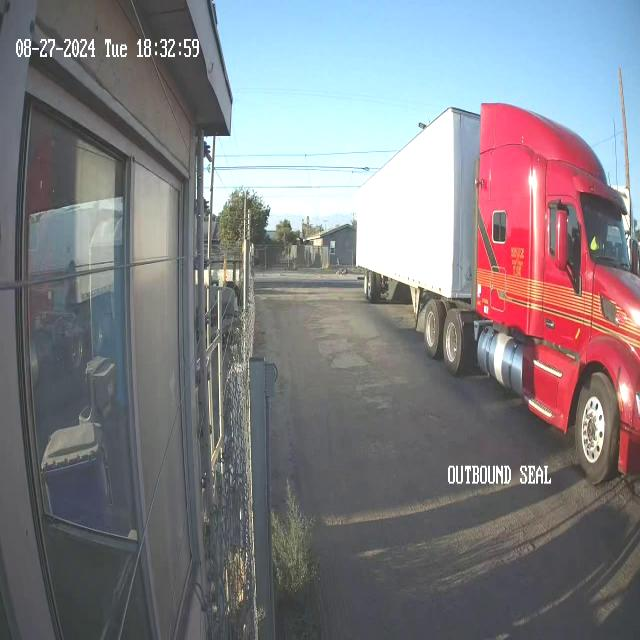CONTAINER: (354, 99, 478, 298)
